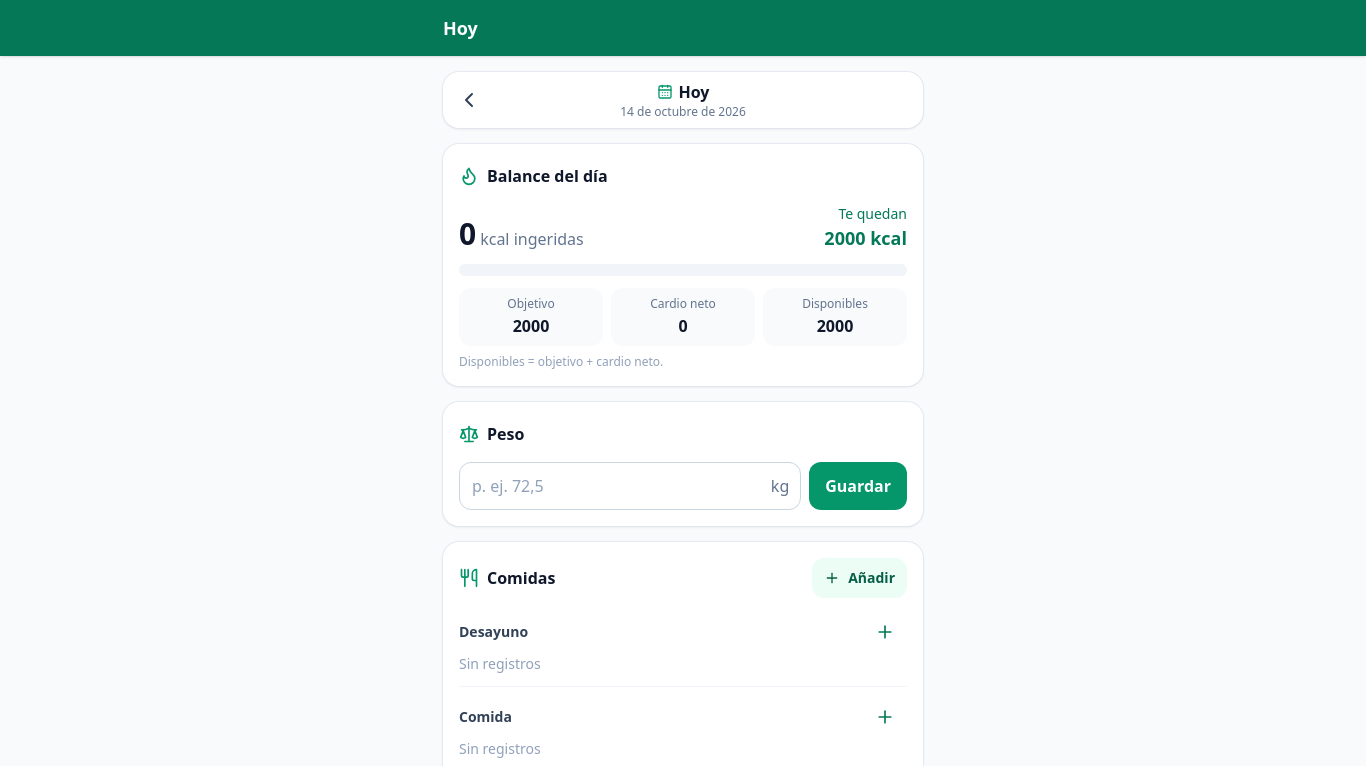
Test: <TodayScreen> weight › validates the range locally and shows the API field error
The width and height of the screenshot is (1366, 766).
In the field named "Peso en kg": (630, 486) [459, 462, 801, 510], type "15"
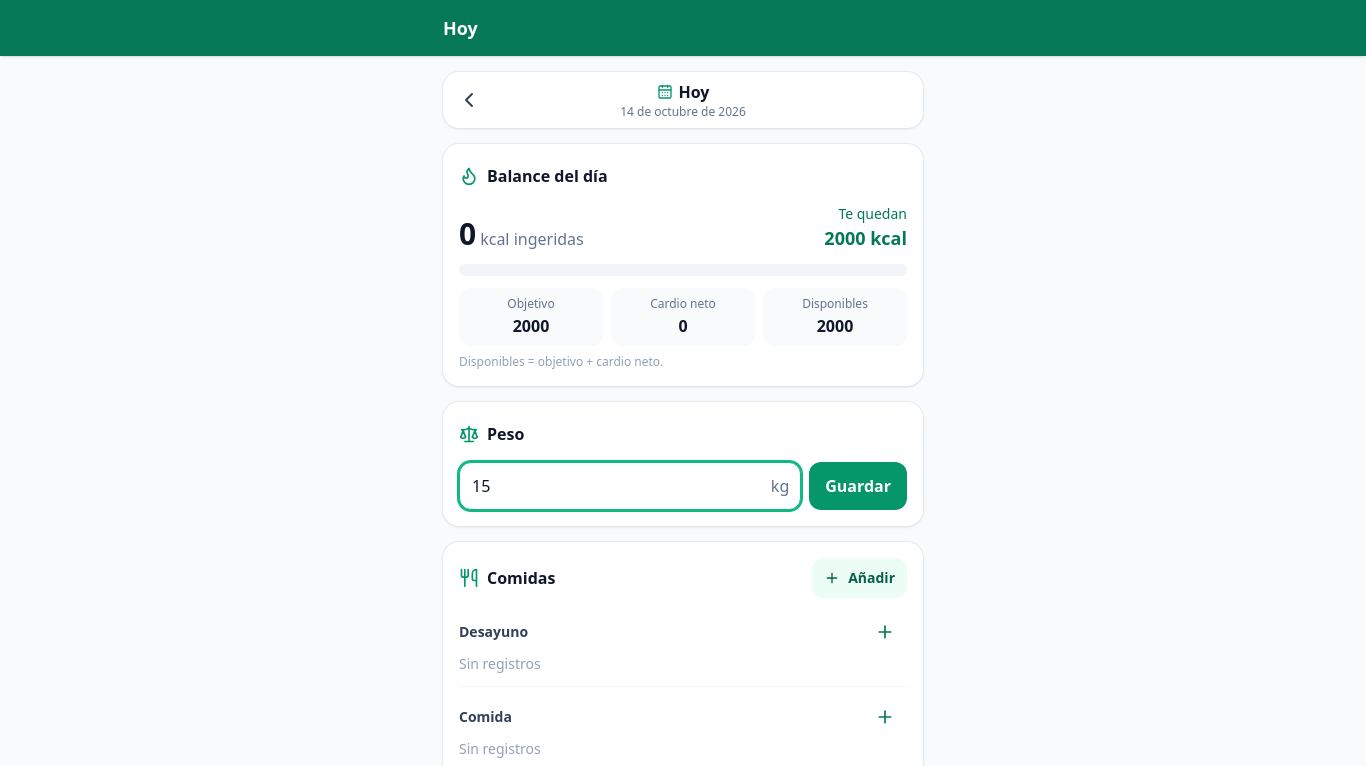
Click the button "Guardar": click(858, 486) [809, 462, 907, 510]
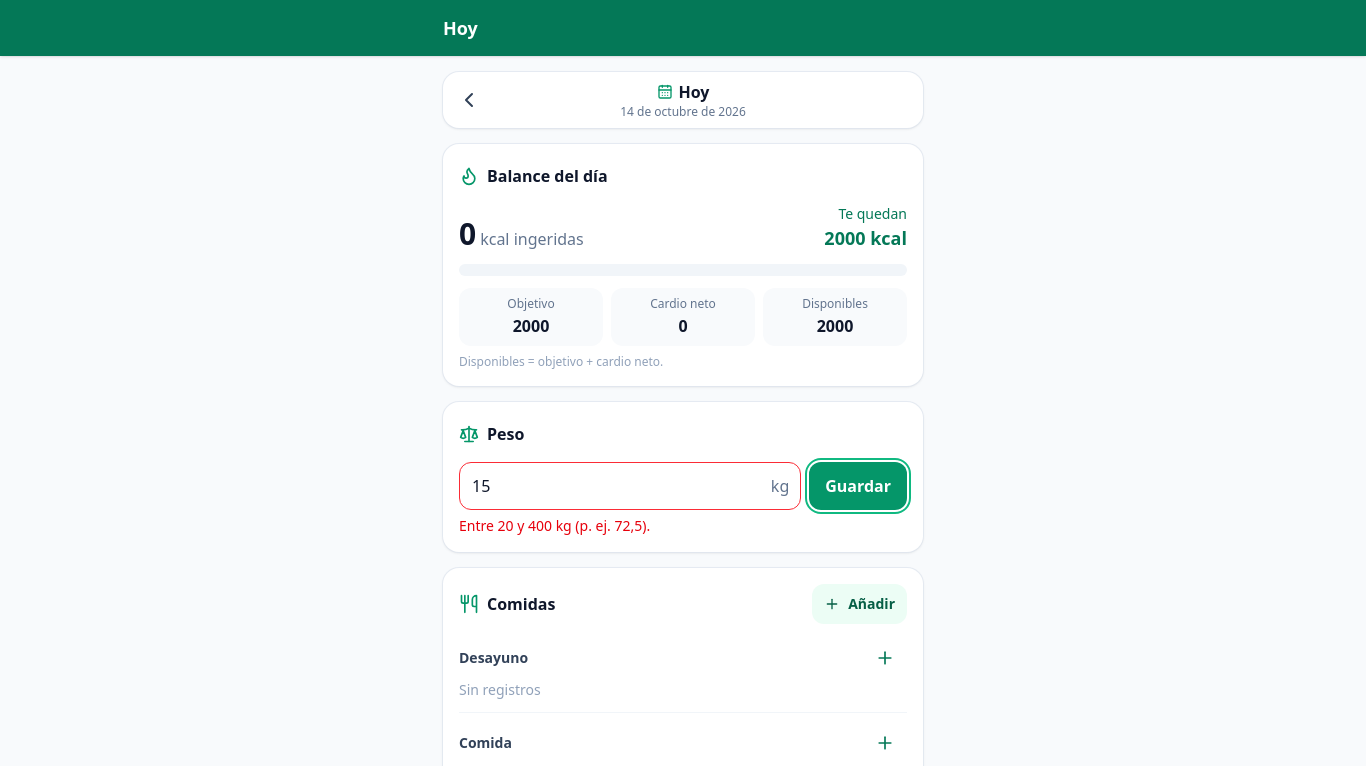
Now the text "Entre 20 y 400 kg (p. ej. 72,5)." is shown, box [459, 516, 650, 535]
Replace the text in the field named "Peso en kg" with "70": (630, 486) [459, 462, 801, 510]
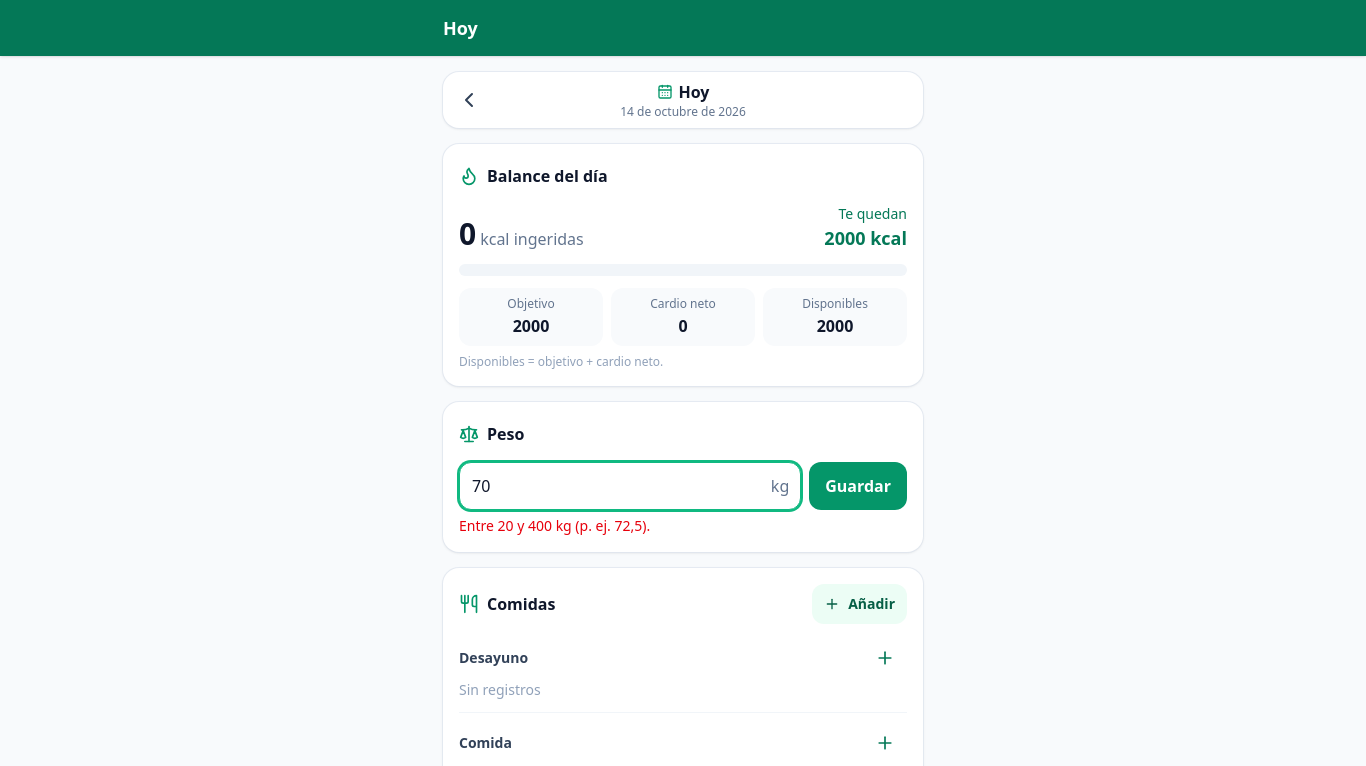
Click the button "Guardar": click(858, 486) [809, 462, 907, 510]
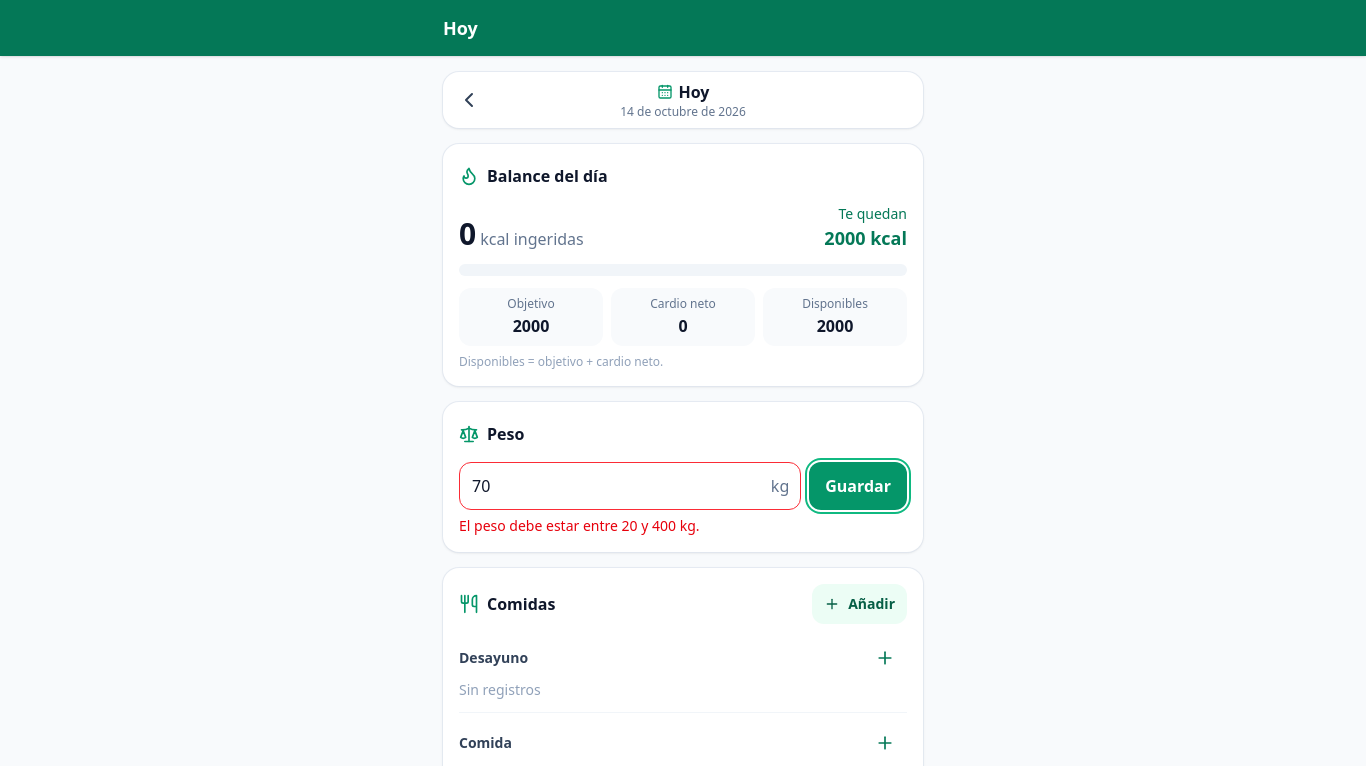
Now the text "El peso debe estar entre 20 y 400 kg." is shown, box [459, 516, 700, 535]
